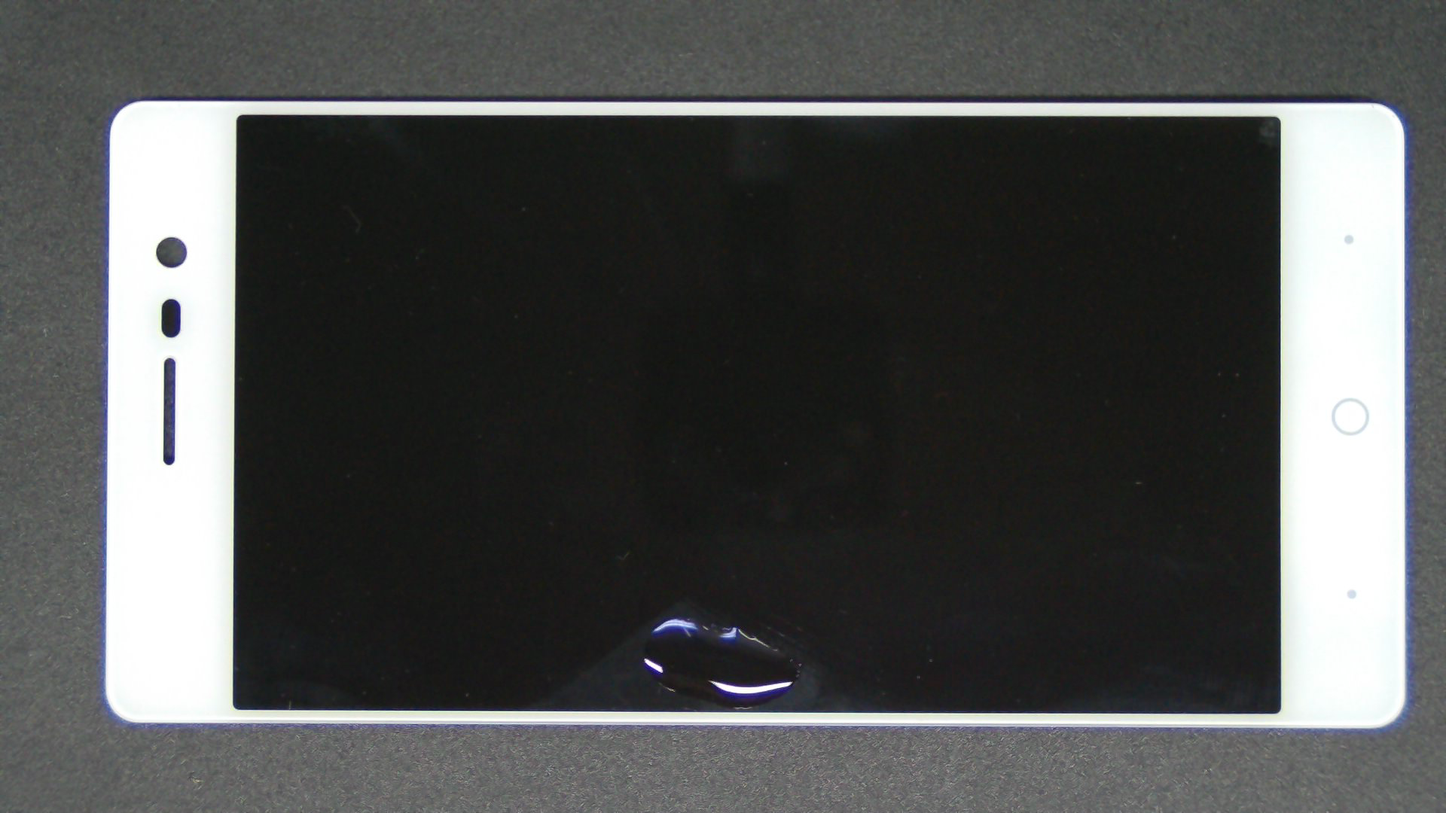oil: (599, 561, 833, 714)
